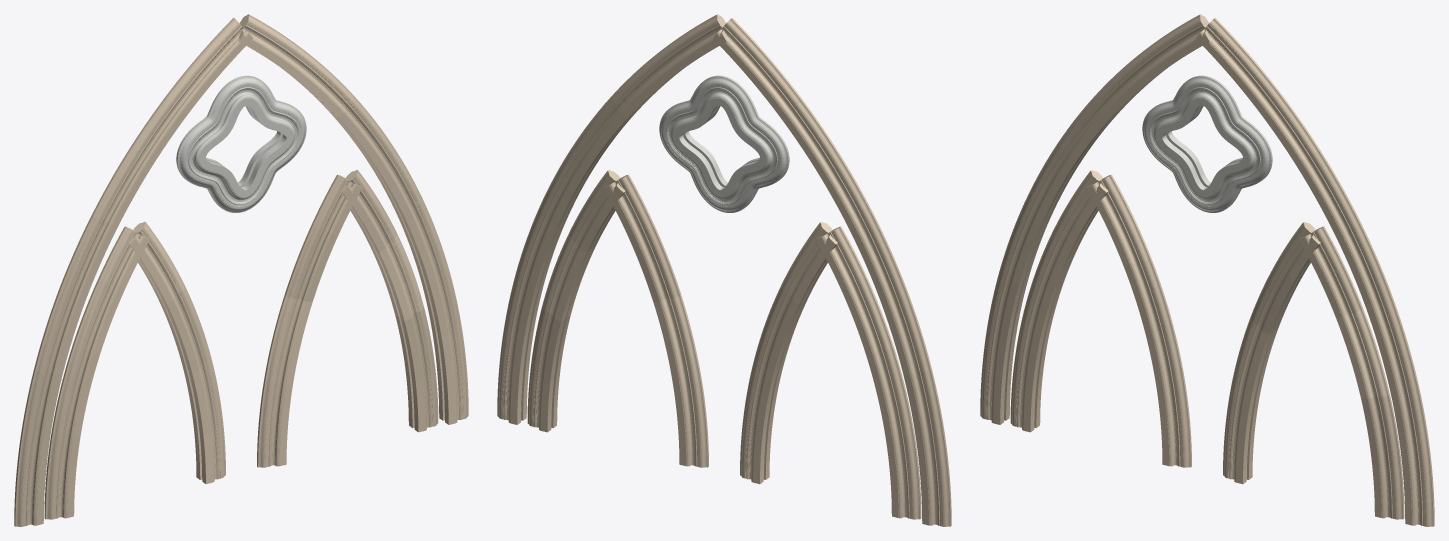
File: R48_WINDOW_HEAD_1to1_EXPERIMENT.glb
The picture shows the model from 3 angles, left to right: view 1: azimuth 30°, elevation 25°; view 2: azimuth 150°, elevation 25°; view 3: azimuth 330°, elevation 25°; orthographic projection.
Visible parts, largest first — view 1: R46_OUTER_CROWN_KEYSTONE_EXPERIMENTAL, R46_OUTER_left_COURSE_02, R46_OUTER_left_COURSE_01, R46_OUTER_right_COURSE_02, R46_OUTER_left_COURSE_03, R46_RIGHT_LANCET_CROWN_KEYSTONE_EXPERIMENTAL, R46_LEFT_LANCET_CROWN_KEYSTONE_EXPERIMENTAL, R46_OUTER_right_COURSE_03, R46_OUTER_right_COURSE_04, R46_RIGHT_LANCET_left_COURSE_02, R46_LEFT_LANCET_left_COURSE_02, R46_LEFT_LANCET_left_COURSE_01 (+17 smaller); view 2: R46_OUTER_CROWN_KEYSTONE_EXPERIMENTAL, R46_OUTER_left_COURSE_02, R46_OUTER_left_COURSE_01, R46_OUTER_right_COURSE_02, R46_OUTER_left_COURSE_03, R46_RIGHT_LANCET_CROWN_KEYSTONE_EXPERIMENTAL, R46_LEFT_LANCET_CROWN_KEYSTONE_EXPERIMENTAL, R46_OUTER_right_COURSE_03, R46_OUTER_right_COURSE_04, R46_RIGHT_LANCET_left_COURSE_02, R46_LEFT_LANCET_left_COURSE_02, R46_LEFT_LANCET_left_COURSE_01 (+17 smaller); view 3: R46_OUTER_CROWN_KEYSTONE_EXPERIMENTAL, R46_OUTER_right_COURSE_02, R46_OUTER_left_COURSE_01, R46_OUTER_left_COURSE_02, R46_OUTER_right_COURSE_03, R46_RIGHT_LANCET_CROWN_KEYSTONE_EXPERIMENTAL, R46_LEFT_LANCET_CROWN_KEYSTONE_EXPERIMENTAL, R46_OUTER_left_COURSE_03, R46_OUTER_right_COURSE_04, R46_LEFT_LANCET_right_COURSE_02, R46_RIGHT_LANCET_right_COURSE_02, R46_LEFT_LANCET_left_COURSE_01 (+17 smaller).
Part boxes in pixels (x1=…): R46_OUTER_CROWN_KEYSTONE_EXPERIMENTAL: x1=165, y1=14, x2=353, y2=118; R46_OUTER_left_COURSE_02: x1=34, y1=215, x2=117, y2=374; R46_OUTER_left_COURSE_01: x1=14, y1=370, x2=62, y2=526; R46_OUTER_right_COURSE_02: x1=330, y1=96, x2=427, y2=227; R46_OUTER_left_COURSE_03: x1=92, y1=97, x2=187, y2=226; R46_RIGHT_LANCET_CROWN_KEYSTONE_EXPERIMENTAL: x1=311, y1=170, x2=396, y2=252; R46_LEFT_LANCET_CROWN_KEYSTONE_EXPERIMENTAL: x1=99, y1=221, x2=184, y2=304; R46_OUTER_right_COURSE_03: x1=400, y1=210, x2=460, y2=336; R46_OUTER_right_COURSE_04: x1=432, y1=323, x2=468, y2=424; R46_RIGHT_LANCET_left_COURSE_02: x1=264, y1=295, x2=312, y2=384; R46_LEFT_LANCET_left_COURSE_02: x1=51, y1=347, x2=99, y2=435; R46_LEFT_LANCET_left_COURSE_01: x1=44, y1=433, x2=80, y2=519; R46_OUTER_CROWN_KEYSTONE_EXPERIMENTAL: x1=612, y1=14, x2=800, y2=118; R46_OUTER_left_COURSE_02: x1=848, y1=215, x2=931, y2=374; R46_OUTER_left_COURSE_01: x1=903, y1=370, x2=951, y2=526; R46_OUTER_right_COURSE_02: x1=538, y1=96, x2=635, y2=227; R46_OUTER_left_COURSE_03: x1=778, y1=97, x2=873, y2=226; R46_RIGHT_LANCET_CROWN_KEYSTONE_EXPERIMENTAL: x1=569, y1=170, x2=654, y2=252; R46_LEFT_LANCET_CROWN_KEYSTONE_EXPERIMENTAL: x1=781, y1=221, x2=866, y2=304; R46_OUTER_right_COURSE_03: x1=505, y1=210, x2=565, y2=336; R46_OUTER_right_COURSE_04: x1=497, y1=323, x2=533, y2=424; R46_RIGHT_LANCET_left_COURSE_02: x1=653, y1=295, x2=701, y2=384; R46_LEFT_LANCET_left_COURSE_02: x1=866, y1=347, x2=914, y2=435; R46_LEFT_LANCET_left_COURSE_01: x1=885, y1=433, x2=921, y2=519; R46_OUTER_CROWN_KEYSTONE_EXPERIMENTAL: x1=1131, y1=14, x2=1319, y2=164; R46_OUTER_right_COURSE_02: x1=1295, y1=150, x2=1393, y2=307; R46_OUTER_left_COURSE_01: x1=980, y1=270, x2=1028, y2=424; R46_OUTER_left_COURSE_02: x1=1000, y1=143, x2=1083, y2=284; R46_OUTER_right_COURSE_03: x1=1366, y1=300, x2=1426, y2=431; R46_RIGHT_LANCET_CROWN_KEYSTONE_EXPERIMENTAL: x1=1277, y1=221, x2=1363, y2=317; R46_LEFT_LANCET_CROWN_KEYSTONE_EXPERIMENTAL: x1=1065, y1=170, x2=1150, y2=265; R46_OUTER_left_COURSE_03: x1=1058, y1=61, x2=1152, y2=164; R46_OUTER_right_COURSE_04: x1=1398, y1=429, x2=1434, y2=526; R46_LEFT_LANCET_right_COURSE_02: x1=1123, y1=257, x2=1177, y2=347; R46_RIGHT_LANCET_right_COURSE_02: x1=1336, y1=309, x2=1389, y2=398; R46_LEFT_LANCET_left_COURSE_01: x1=1010, y1=342, x2=1046, y2=432.
Bounding box in the file's own units: 2.09 × 2.01 × 0.0764.
